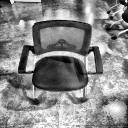chair_success: (16, 18, 104, 107)
